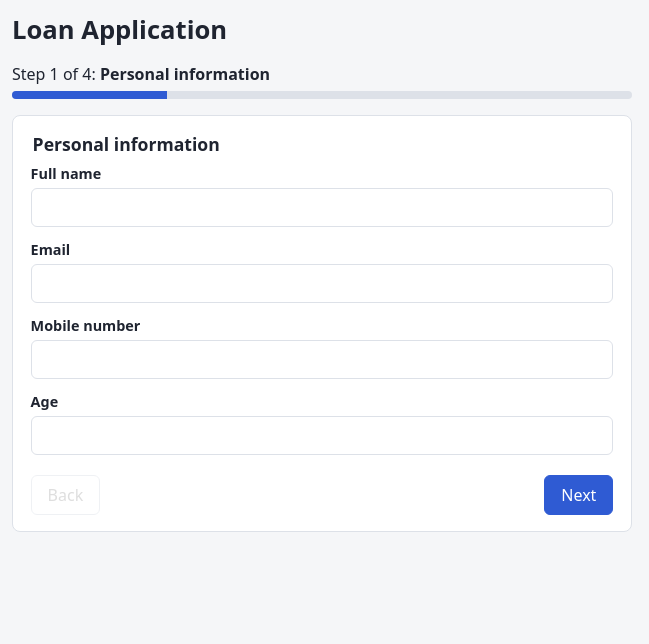
Scenario: Multi-step loan application › does not move on while the current step is invalid
Check: the button "Back" is disabled, box [31,475,100,515]
Click the button "Next": (579, 495) [544,475,613,515]
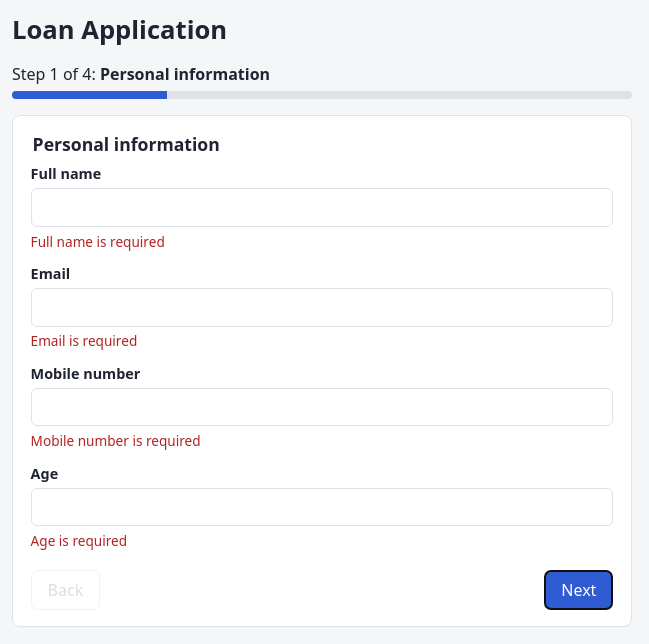
Check: the text "Step 1 of 4: Personal information" is shown, box [12,63,270,85]
Check: the text "Full name is required" is shown, box [31,232,165,251]
